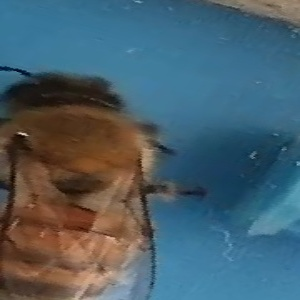bee: (2, 55, 210, 299)
